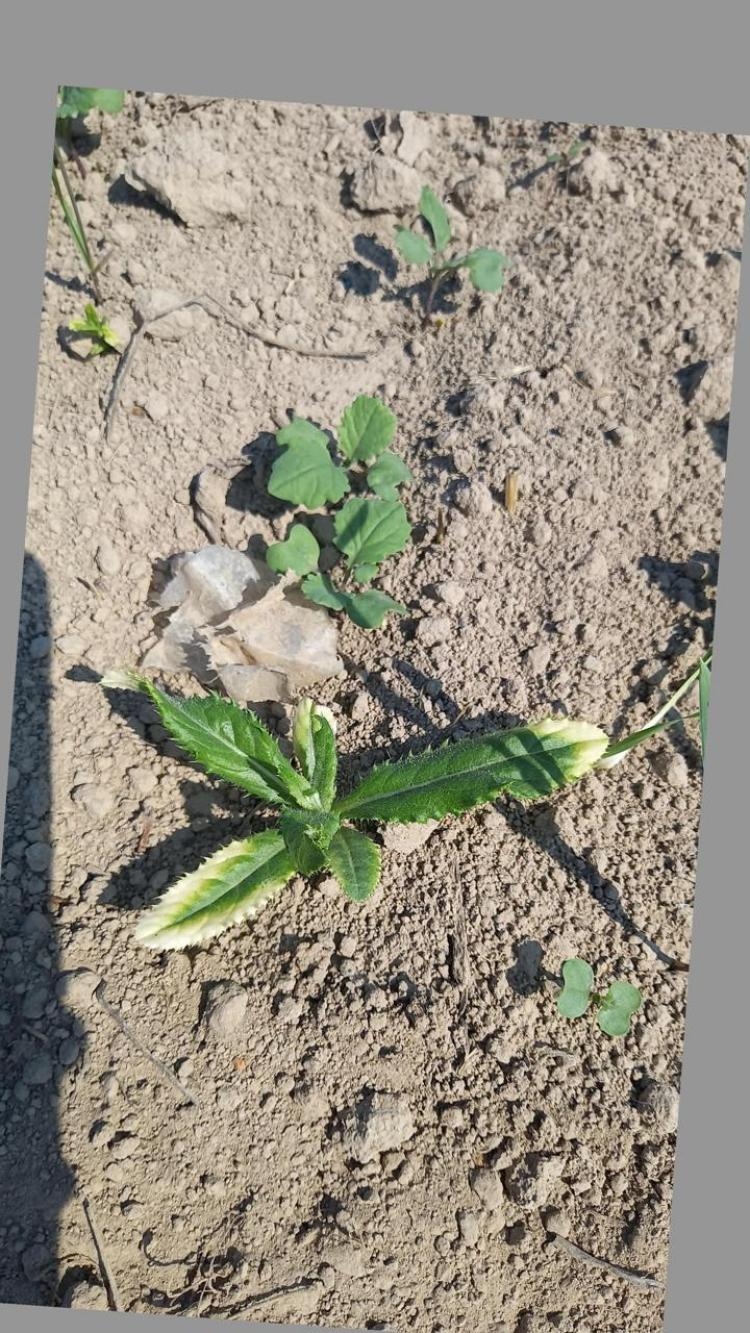bodyak: (140, 668, 588, 970)
